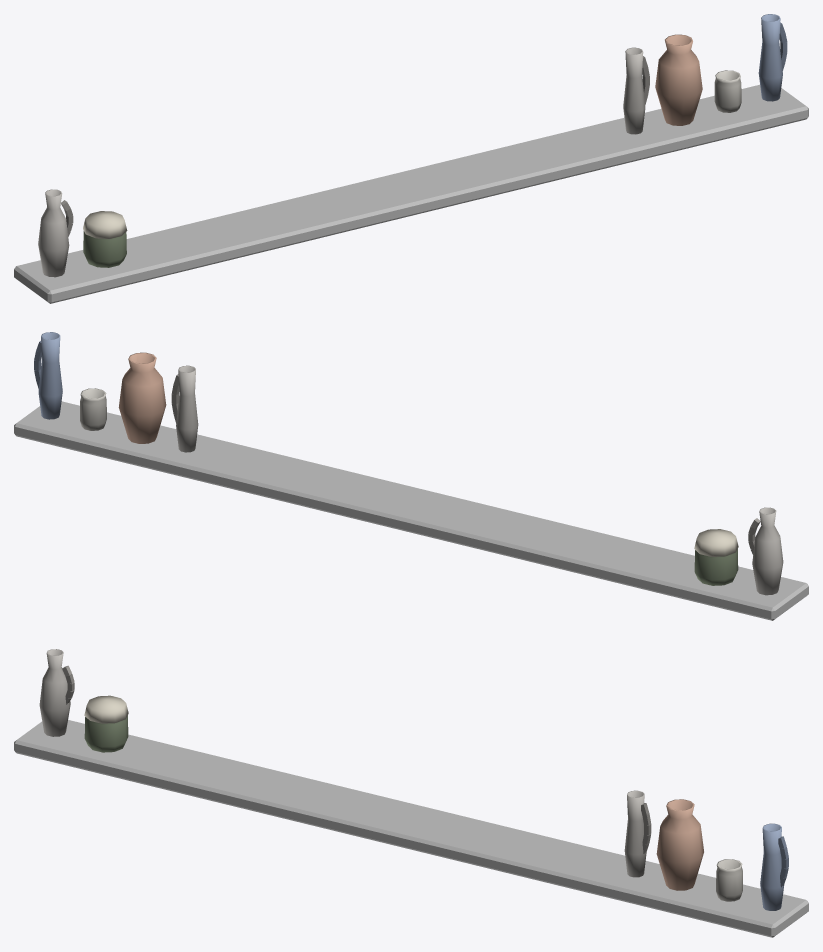
The model's file is door_shelf_jars.glb.
3 views of the same model, one above another, from view 1: azimuth 30°, elevation 25°; view 2: azimuth 150°, elevation 25°; view 3: azimuth 330°, elevation 25° (orthographic).
Parts seen in each view (by area): view 1: crock; view 2: crock; view 3: crock.
Boxes of the visible parts, left/top/right/bottom form: crock: left=14, top=14, right=808, bottom=303; crock: left=14, top=332, right=808, bottom=620; crock: left=14, top=649, right=808, bottom=937.
Size of the model in its own units: 3 by 0.35 by 0.25.
